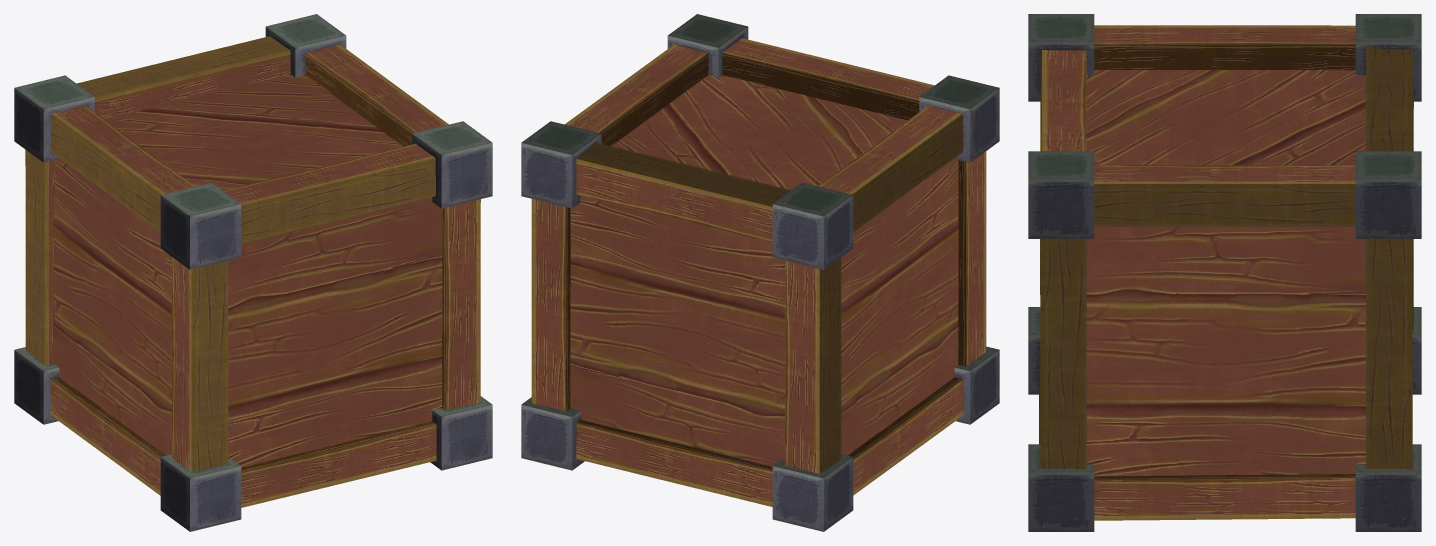
File: Box_Prop.FBX
3 views of the same model, side by side, from view 1: azimuth 30°, elevation 25°; view 2: azimuth 150°, elevation 25°; view 3: azimuth 270°, elevation 25° (orthographic). The views are drawn at different scales.
Visible parts, largest first — view 1: pCube41; view 2: pCube41; view 3: pCube41.
Boxes of the visible parts, left/top/right/bottom form: pCube41: left=14, top=14, right=492, bottom=531; pCube41: left=521, top=14, right=999, bottom=531; pCube41: left=1028, top=14, right=1421, bottom=531.
Bounding box in the file's own units: 1.25 × 1.25 × 1.26.
